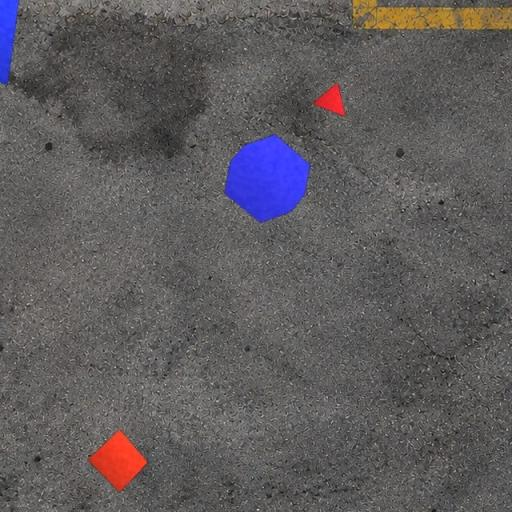RED_SQUARE: (86, 428, 149, 493)
